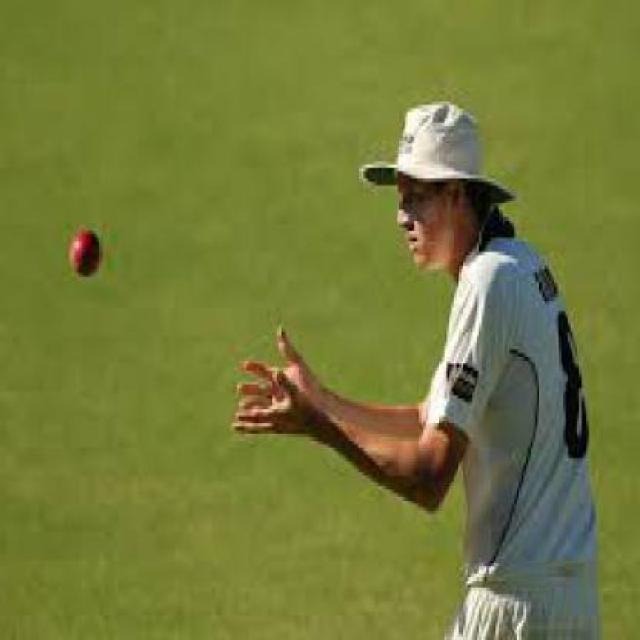ball: (51, 206, 138, 298)
